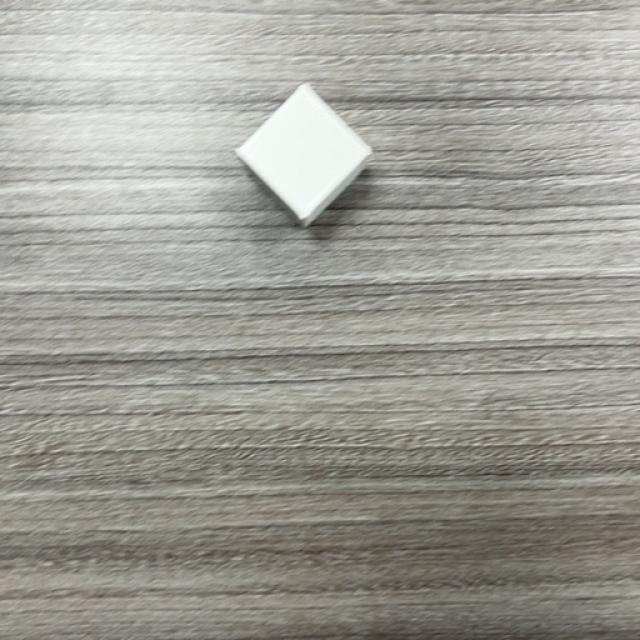Blanco: (234, 85, 374, 226)
